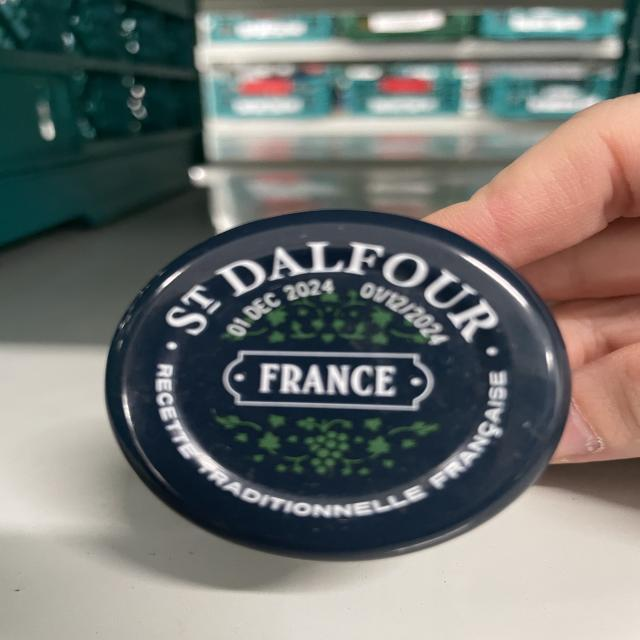object_name: (109, 225, 548, 564)
